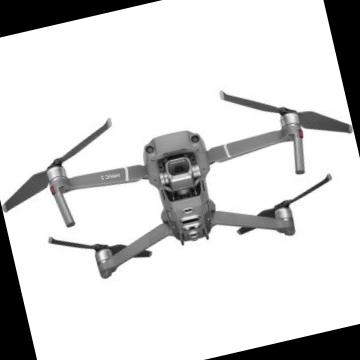drone: (0, 58, 360, 298)
